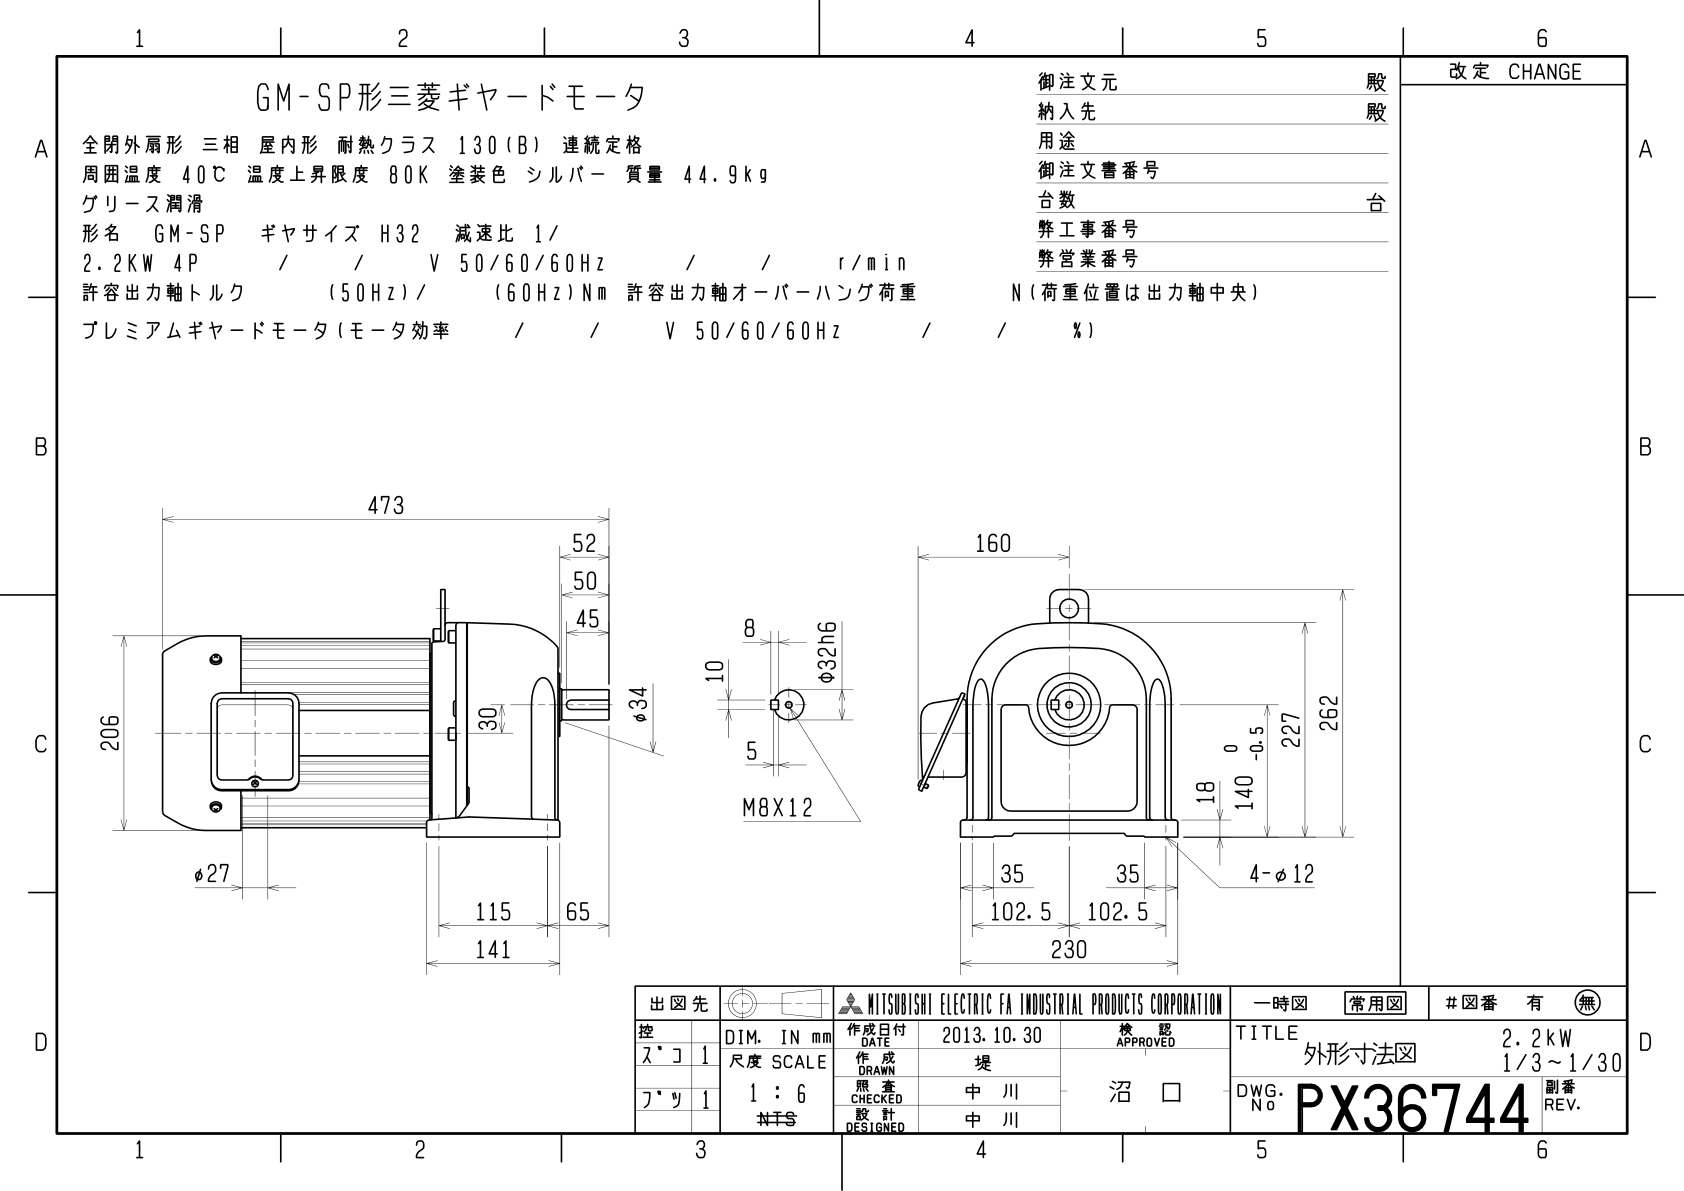GM_SP_屋内_三相_脚: (70, 429, 1381, 982)
